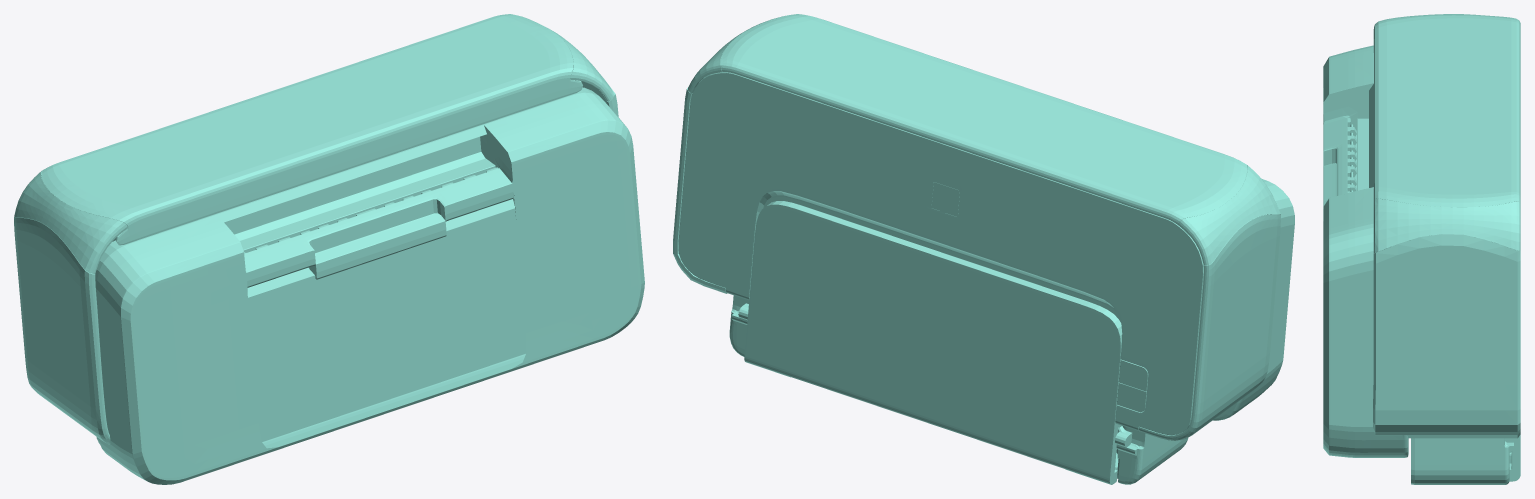
Rendered from Printer.glb.
3 views of the same model, side by side, from view 1: azimuth 30°, elevation 25°; view 2: azimuth 150°, elevation 25°; view 3: azimuth 270°, elevation 25° (orthographic).
Parts seen in each view (by area): view 1: imagetostl_mesh0; view 2: imagetostl_mesh0; view 3: imagetostl_mesh0.
Part boxes in pixels (x1,y1,x2,y2): imagetostl_mesh0: [14, 14, 644, 484]; imagetostl_mesh0: [673, 14, 1294, 484]; imagetostl_mesh0: [1323, 14, 1520, 484].
Bounding box in the file's own units: 194 × 114 × 62.05.
